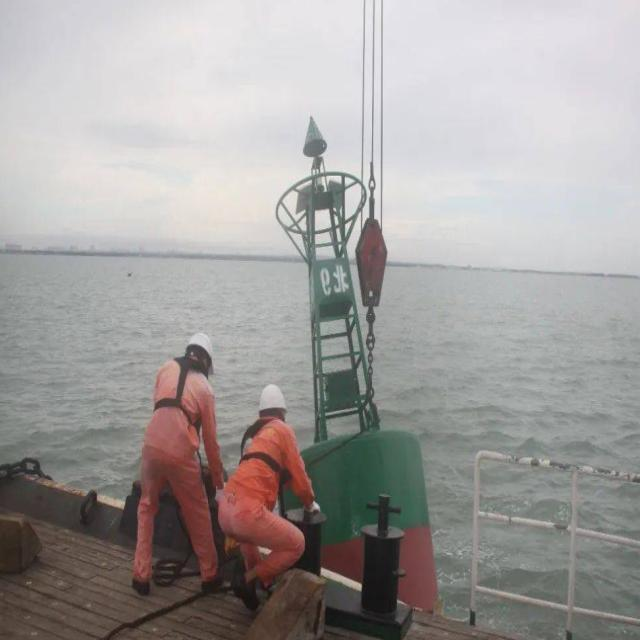buoy: (272, 105, 441, 610)
